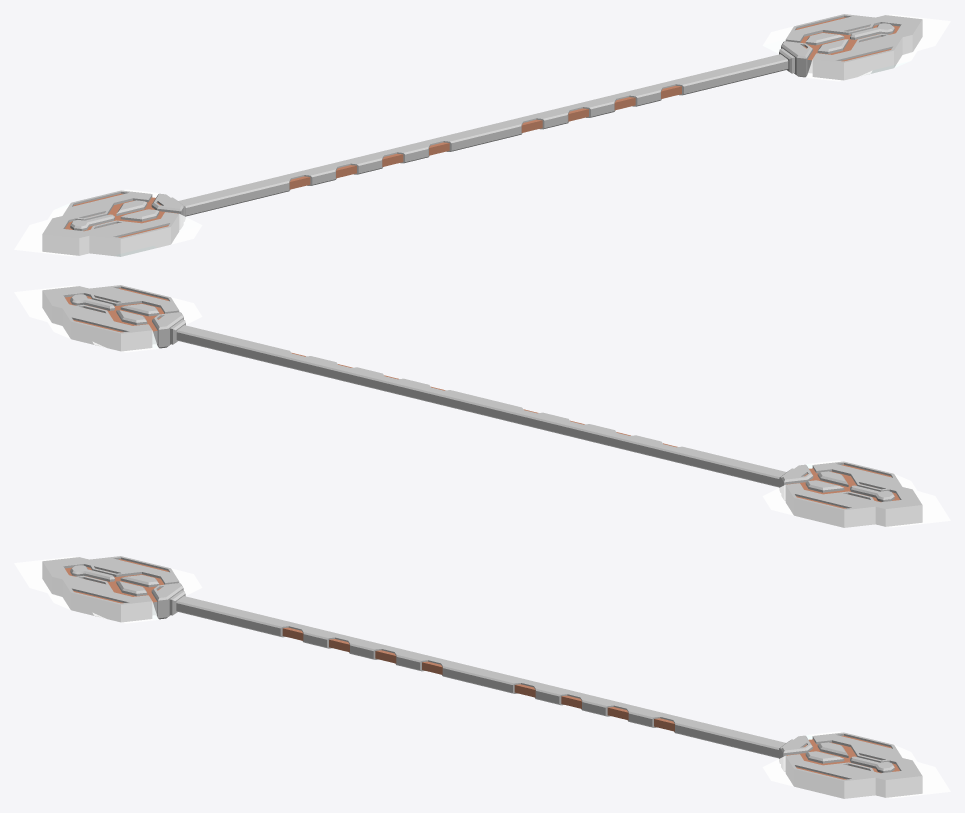
File: weap3_spear.fbx
3 views of the same model, one above another, from view 1: azimuth 30°, elevation 25°; view 2: azimuth 150°, elevation 25°; view 3: azimuth 330°, elevation 25° (orthographic).
Parts seen in each view (by area): view 1: weap3_spear; view 2: weap3_spear; view 3: weap3_spear.
Part boxes in pixels (bbox=[...]): weap3_spear: bbox=[14, 14, 950, 256]; weap3_spear: bbox=[14, 285, 950, 527]; weap3_spear: bbox=[14, 556, 950, 798].
Bounding box in the file's own units: 200 × 4.36 × 25.
